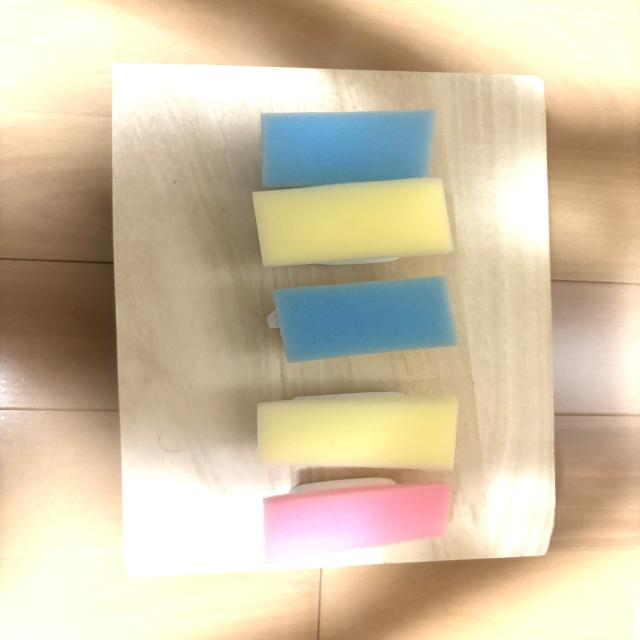ika: (268, 276, 457, 362), (261, 110, 435, 187)
tai: (263, 478, 451, 563)
tamago: (253, 177, 453, 266), (257, 393, 457, 470)
